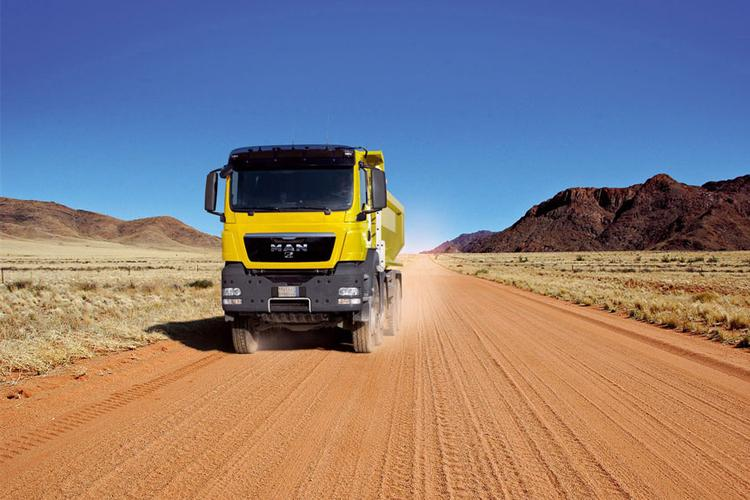卡车: (185, 121, 431, 353)
